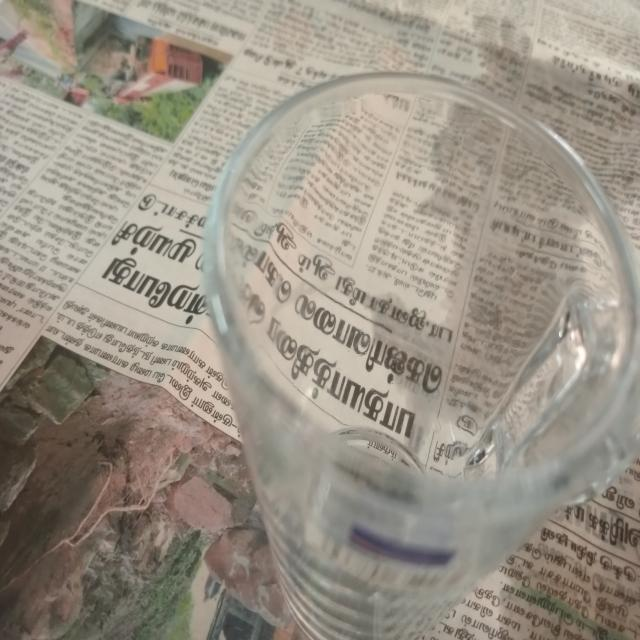glass-VX4N: (204, 69, 640, 640)
